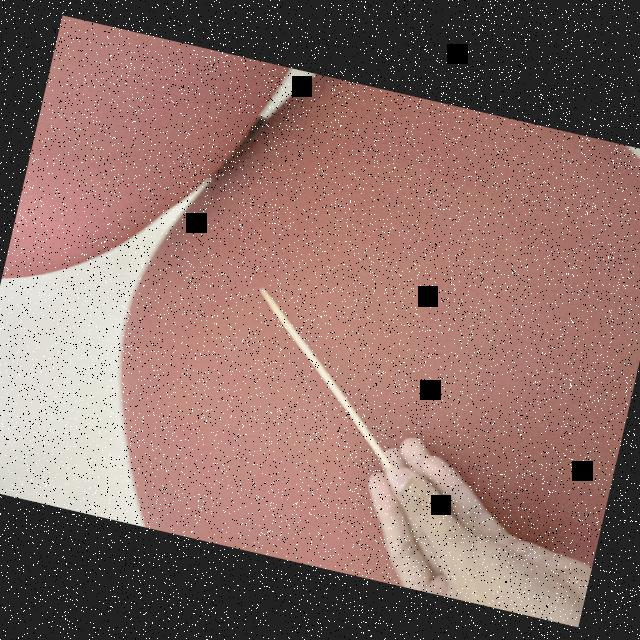stick: (223, 280, 430, 472)
